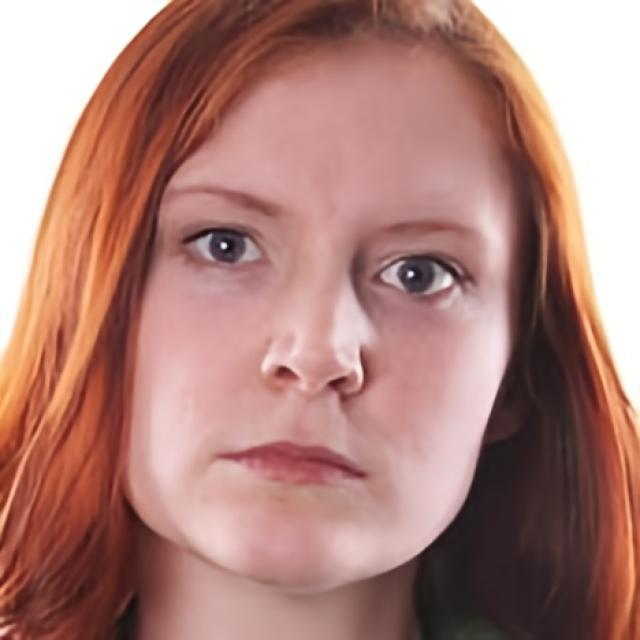fear: (108, 39, 518, 586)
